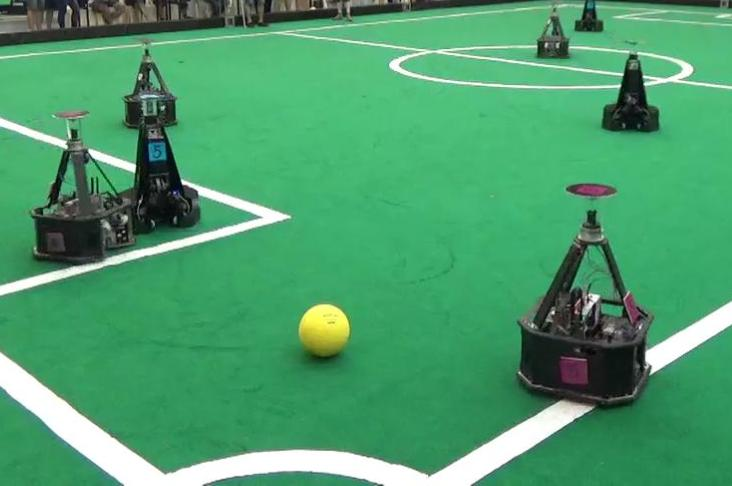robot: (515, 181, 660, 409), (26, 108, 137, 268), (112, 94, 203, 236), (119, 33, 183, 133), (601, 35, 665, 135)
